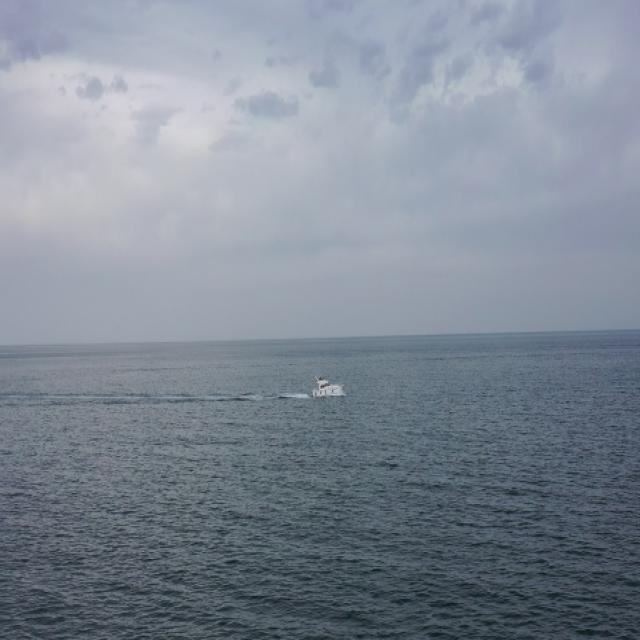houseboat: (310, 366, 348, 400)
